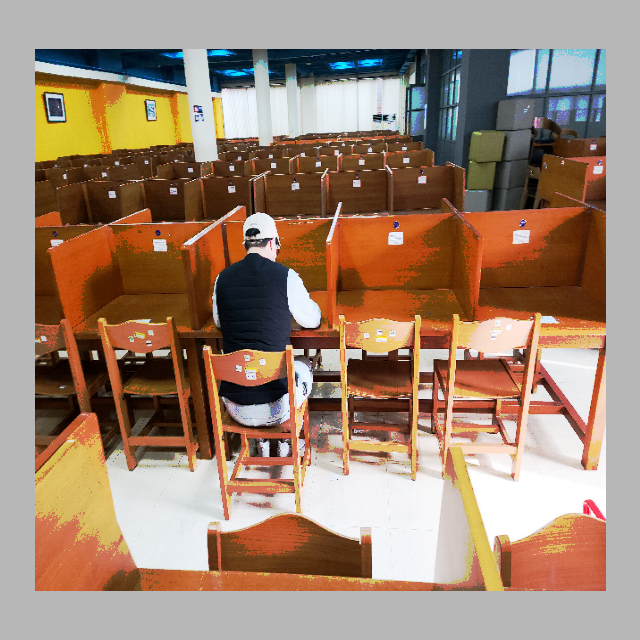empty: (327, 203, 472, 391), (480, 210, 609, 395)
full: (189, 186, 320, 415)
